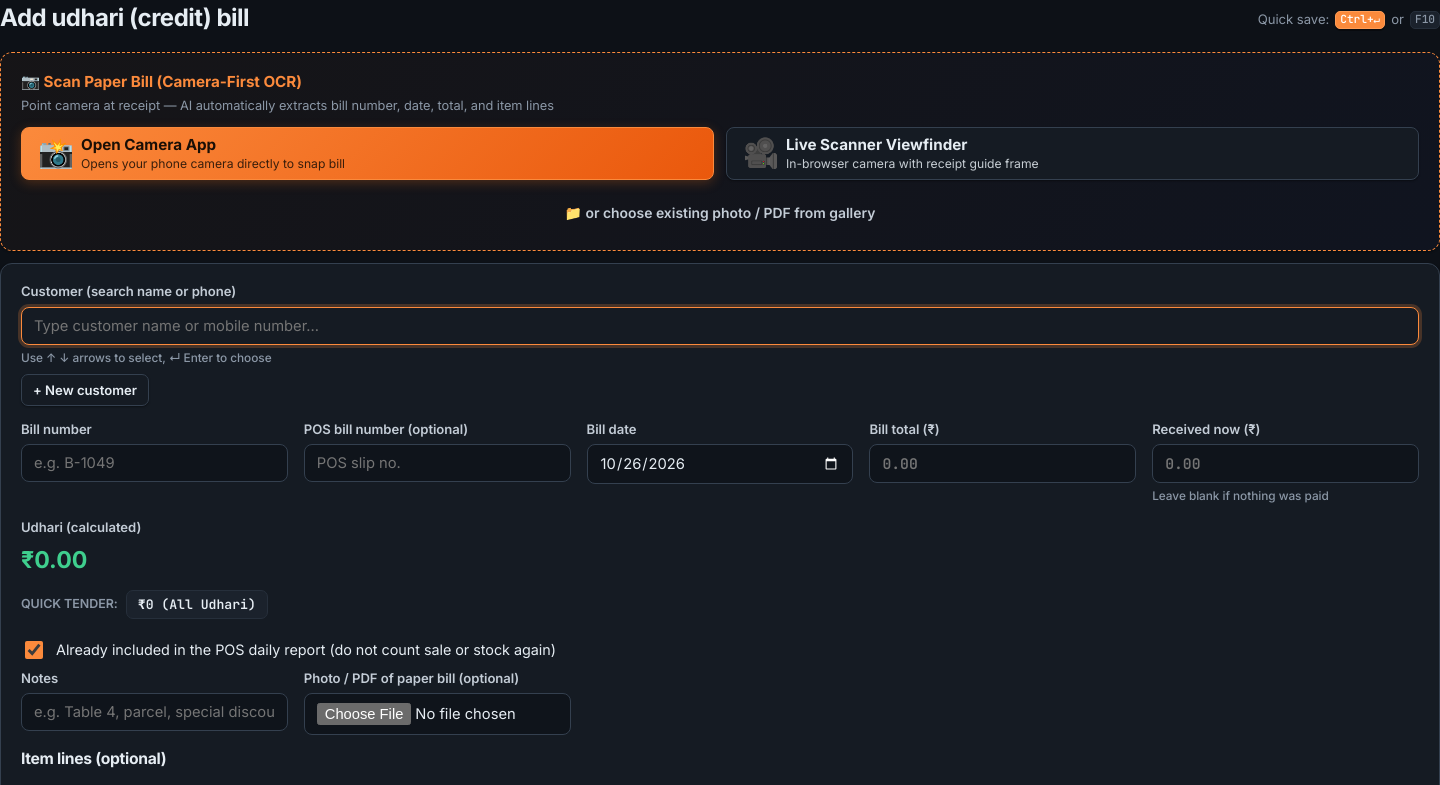
Test: AddBill form › shows a server error and keeps the typed input
This screenshot has width=1440, height=785.
In the field labelled "Bill number": (154, 463) [21,444,288,482], type "B-77"
(page scrolled)
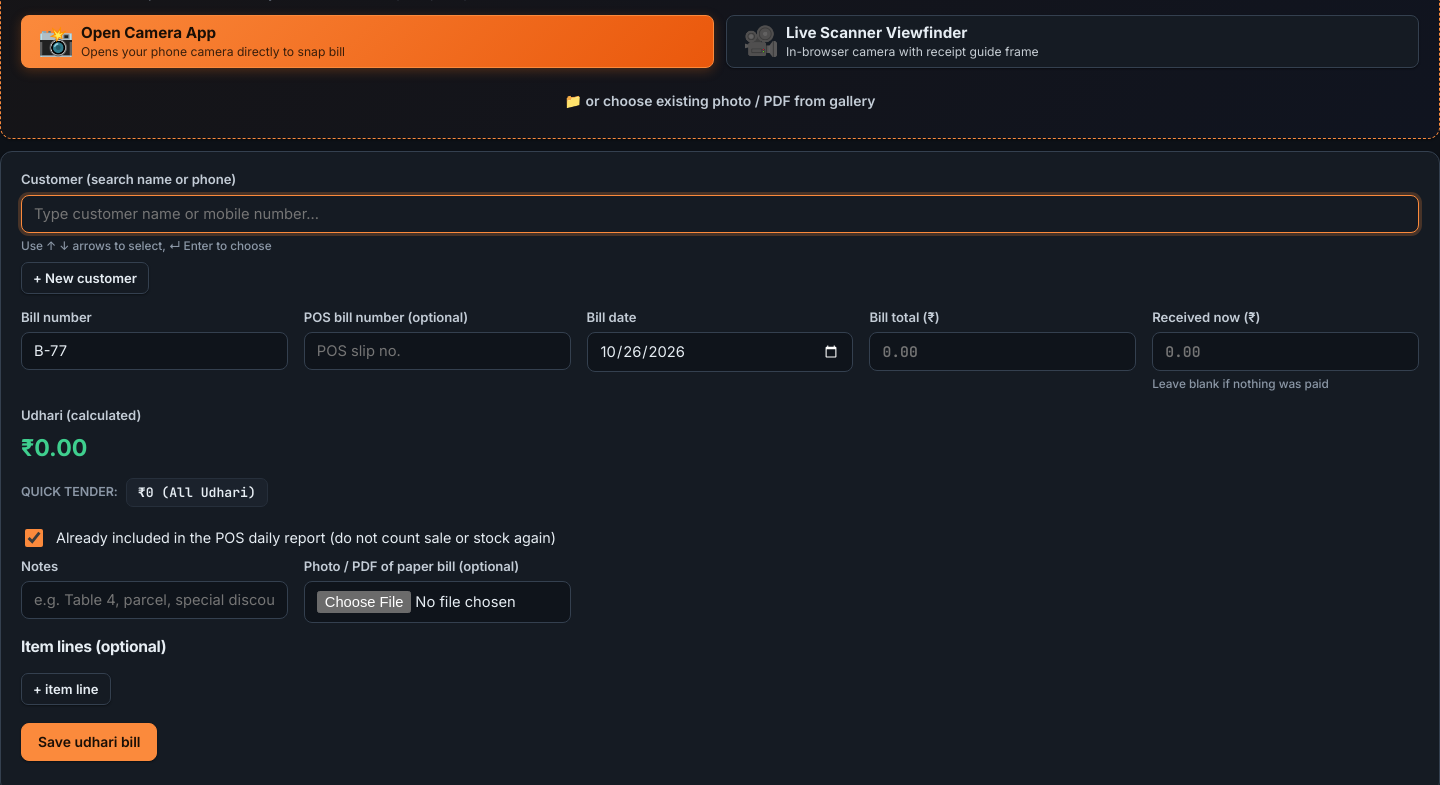
Click the text "Save udhari bill": click(89, 742) [38,734,140,750]
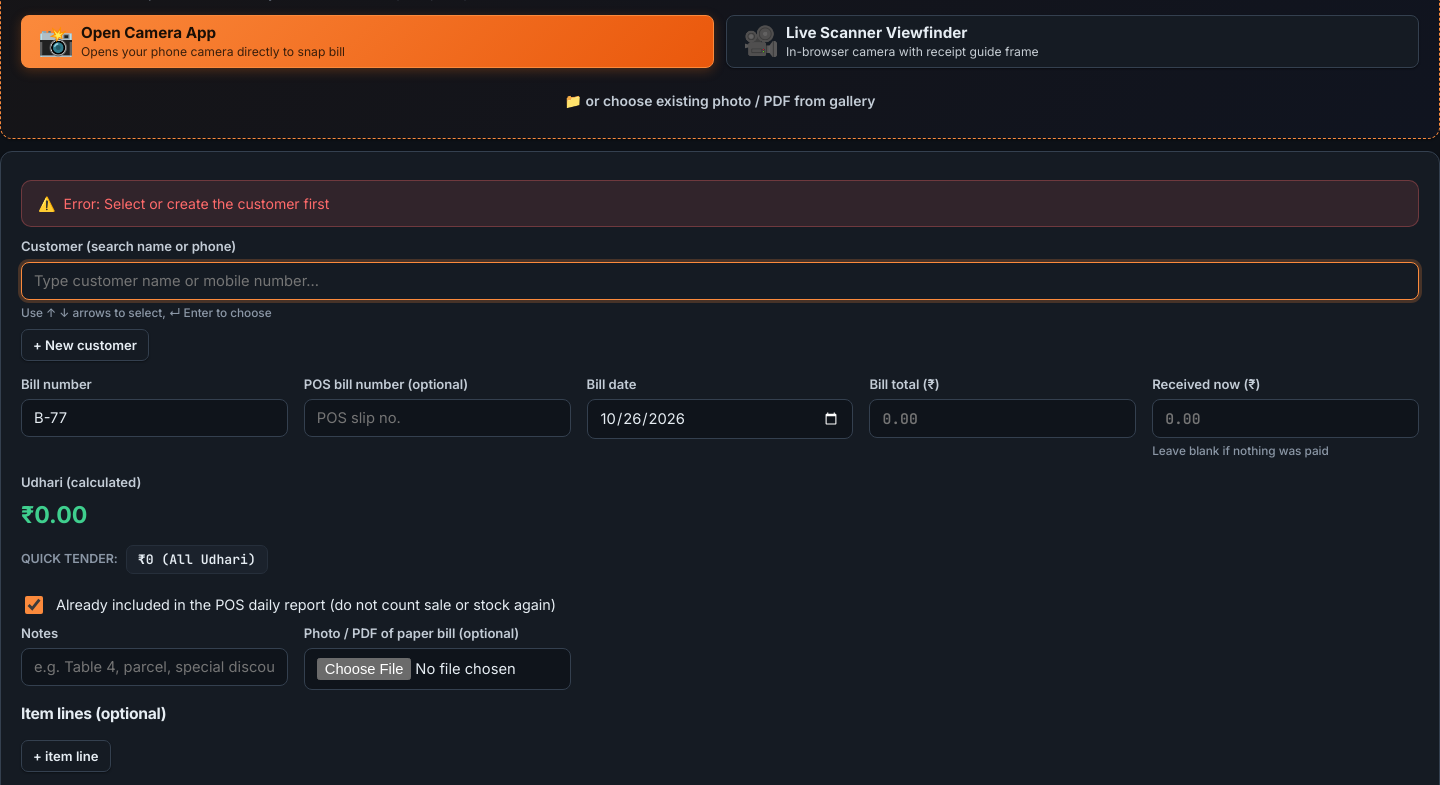
Check: the text "⚠️ Error: Select or create the customer first" is shown, box [21,180,1419,227]
